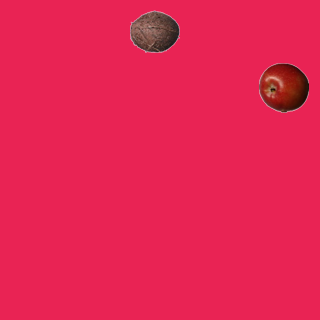Apple Braeburn: (258, 62, 308, 112)
Cocos: (129, 6, 179, 56)
